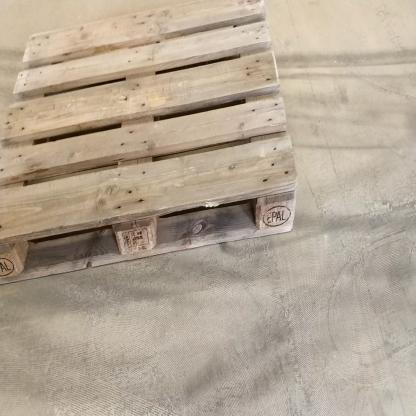BoxFace: (0, 3, 303, 290)
